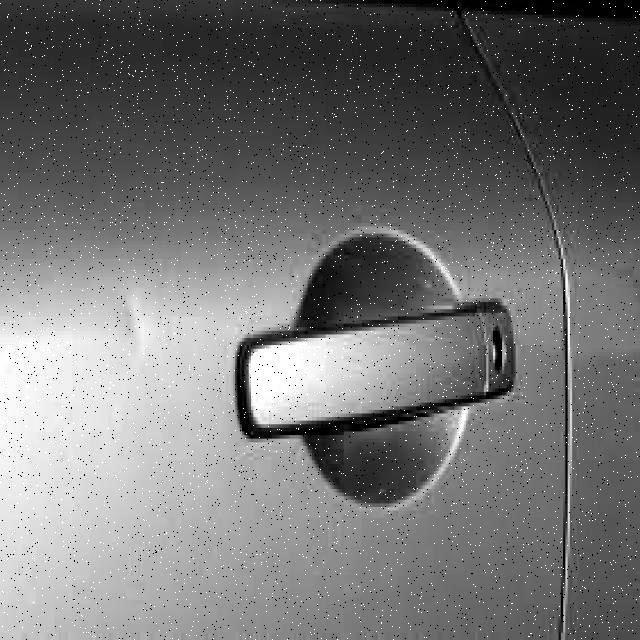doorouter-dent: (0, 18, 570, 636)
